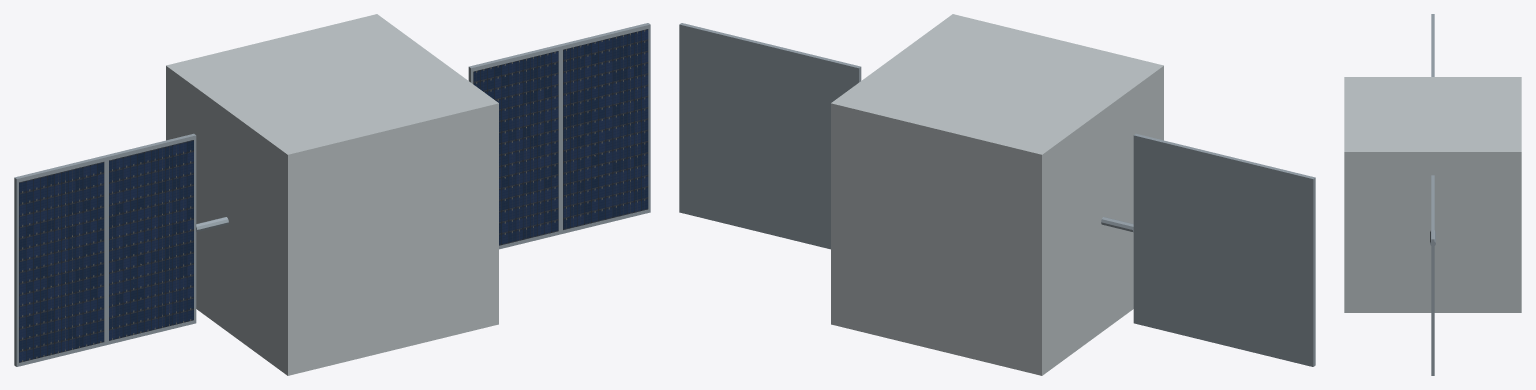
File: ref-velox-57482.glb
3 renders of one model, left to right at view 1: azimuth 30°, elevation 25°; view 2: azimuth 150°, elevation 25°; view 3: azimuth 270°, elevation 25°, orthographic. The views are drawn at different scales.
Visible parts, largest first — view 1: Spacecraft body, Photovoltaic laminates (×4), Array frame (×4); view 2: Spacecraft body, Array frame (×4); view 3: Spacecraft body, Array frame.
Boxes of the visible parts, left/top/right/bottom form: Spacecraft body: left=166, top=14, right=498, bottom=375; Photovoltaic laminates (×4): left=19, top=29, right=648, bottom=362; Array frame (×4): left=14, top=23, right=650, bottom=366; Spacecraft body: left=831, top=14, right=1163, bottom=375; Array frame (×4): left=679, top=23, right=1315, bottom=366; Spacecraft body: left=1344, top=77, right=1521, bottom=312; Array frame: left=1431, top=207, right=1434, bottom=375.
Bounding box in the file's own units: 0.9 × 0.3 × 0.3.
Materials: 3 (1 with a texture image).
